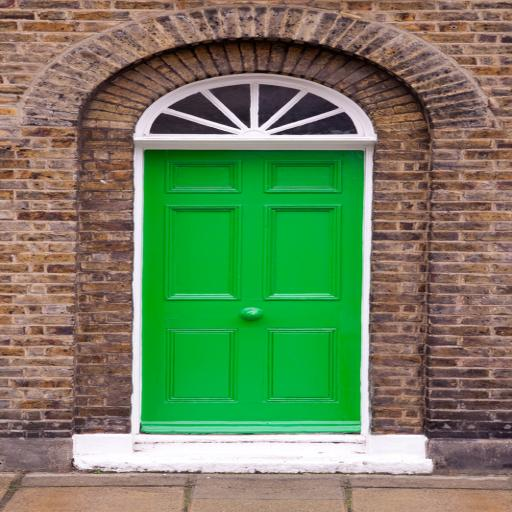Door: (140, 149, 363, 433)
Stairs: (71, 433, 433, 474)
